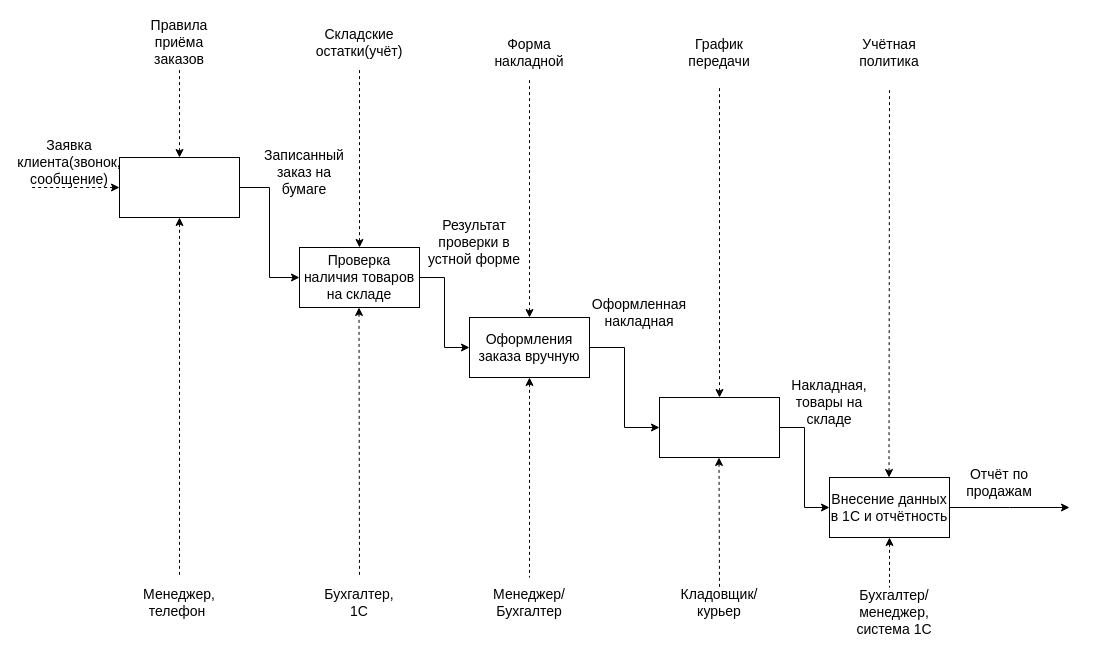
Some shapes in this 1095 by 654 pixel diagram are drawn without their labels. Here are the shapes that lost their labels. From the top down, the box of each, then its label:
(118, 156, 240, 218): Получение заявки от клиента
(658, 396, 780, 458): Сборка и передача заказа
